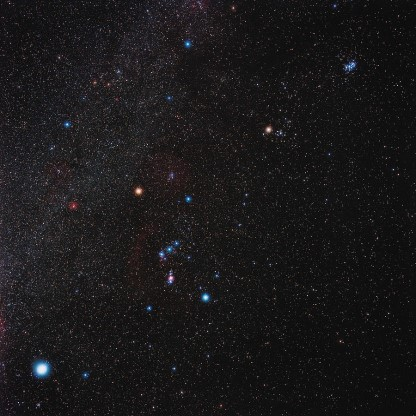Orion: (199, 287, 217, 307), (129, 182, 145, 199), (184, 190, 198, 209), (142, 298, 154, 316), (172, 234, 183, 250), (162, 245, 173, 257), (156, 250, 164, 263)
